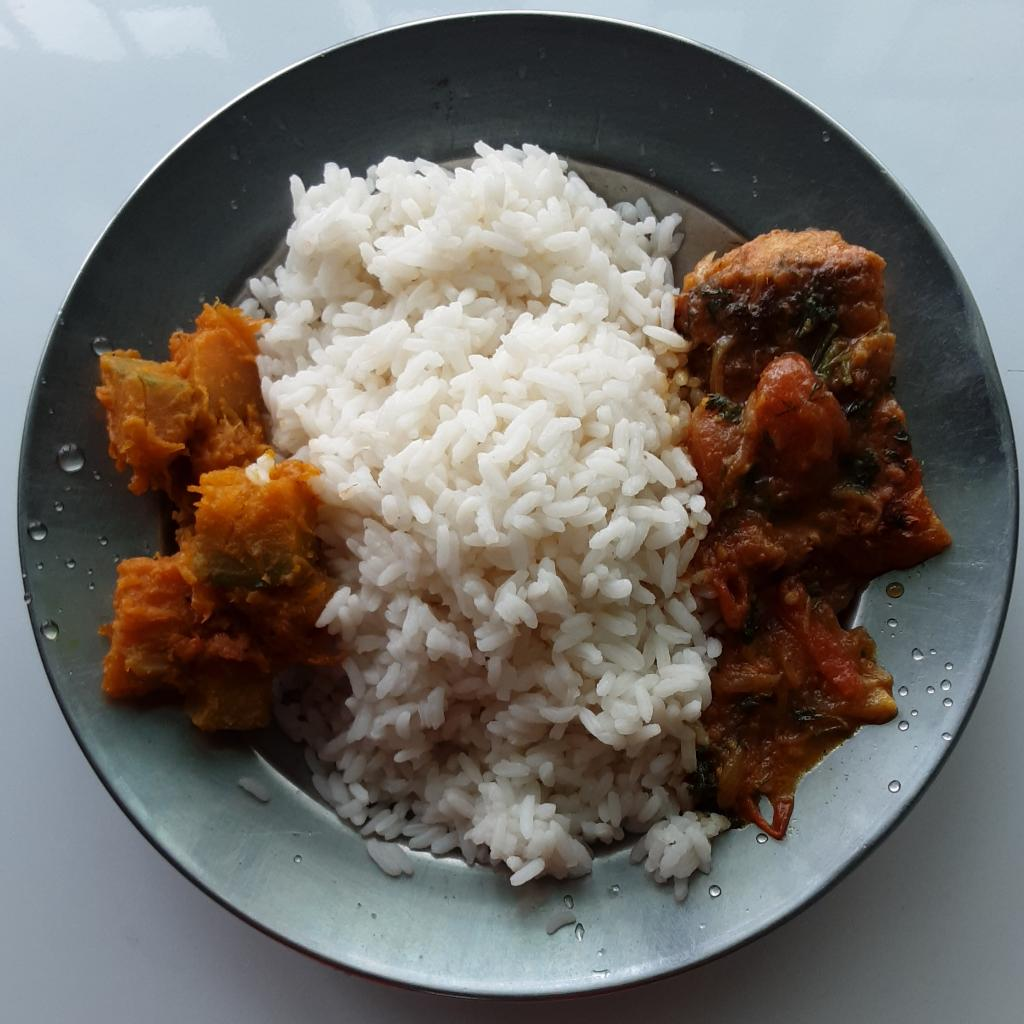fish: (678, 227, 951, 633)
kumra-vaji: (99, 298, 345, 735)
rice: (238, 141, 726, 909)
tomato: (701, 580, 899, 849)
